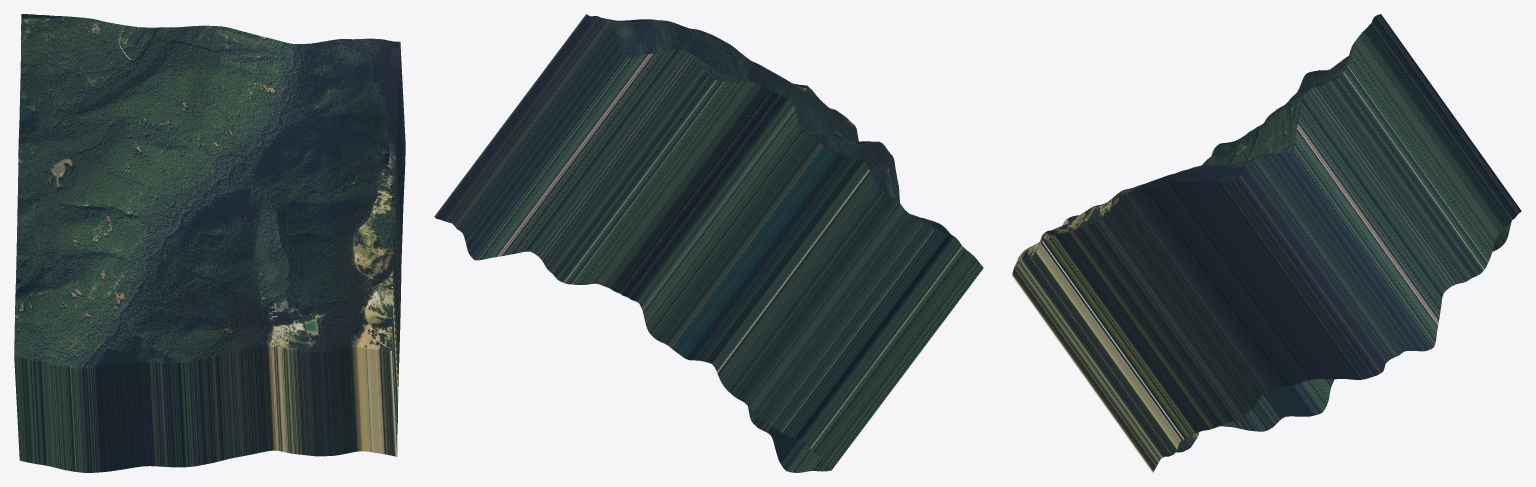
3 renders of one model, left to right at view 1: azimuth 30°, elevation 25°; view 2: azimuth 150°, elevation 25°; view 3: azimuth 270°, elevation 25°, orthographic. The views are drawn at different scales.
Size of the model in its own units: 6193 by 5260 by 6308.
Materials: 1 (1 with a texture image).
